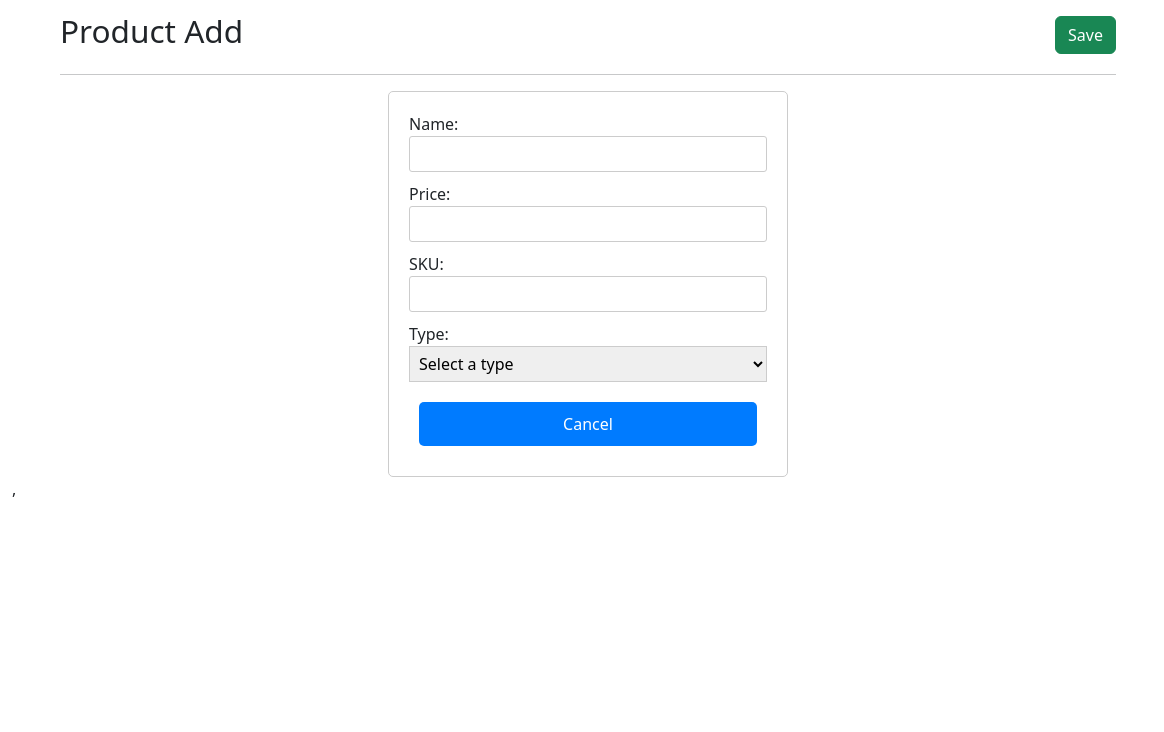
Test: AddProductForm Component › should show error message when all the fields are not entered
Click the button "Save": [1086, 35] box [1055,16,1116,54]
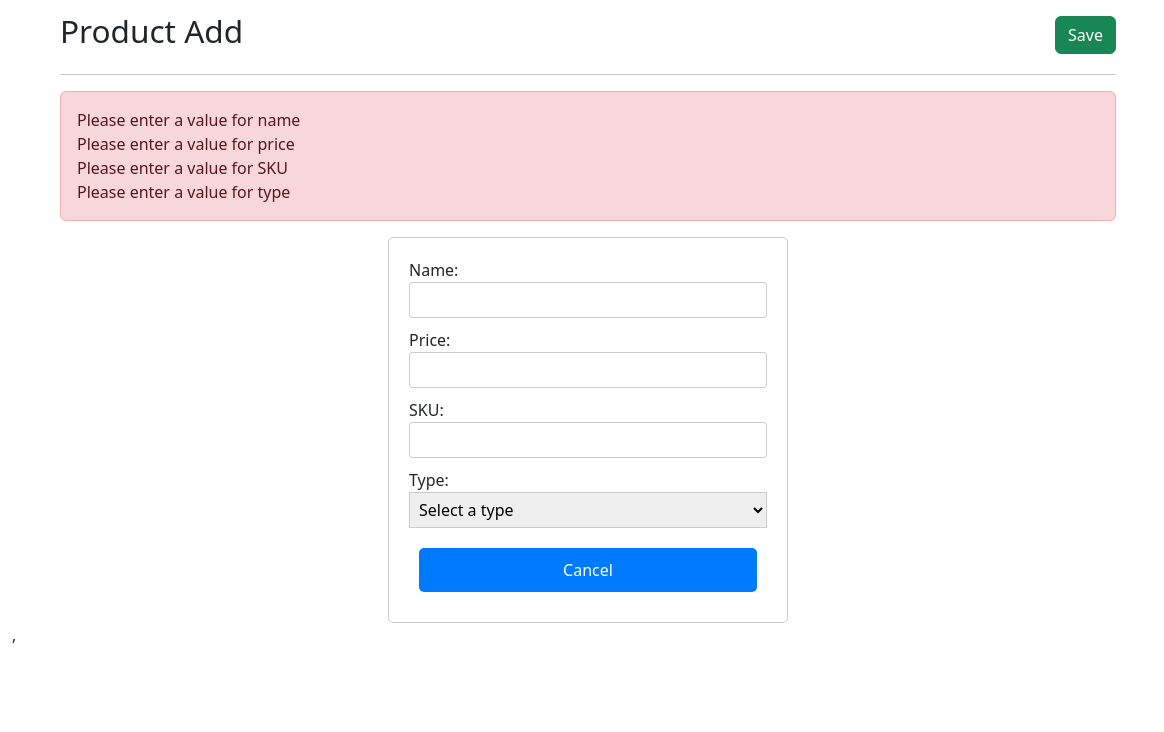
Result: the message shows "Please enter a value for namePlease enter a value for pricePlease enter a value for SKUPlease enter a value for type" at [60,91,1116,221]
